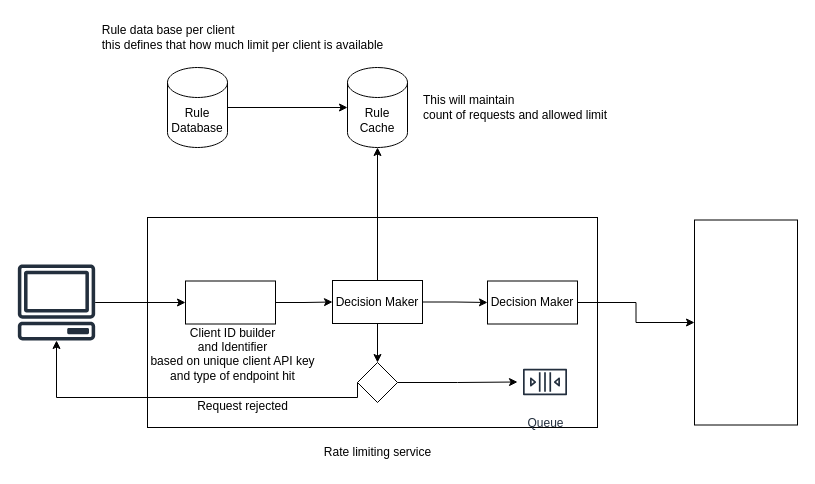
Some shapes in this 815 by 484 pixel diagram are drawn without their labels. Here are the shapes that lost their labels. From the top down, the box of each, then its label:
(184, 280, 276, 324): Generate hashed IDs
(694, 219, 798, 425): Servers
